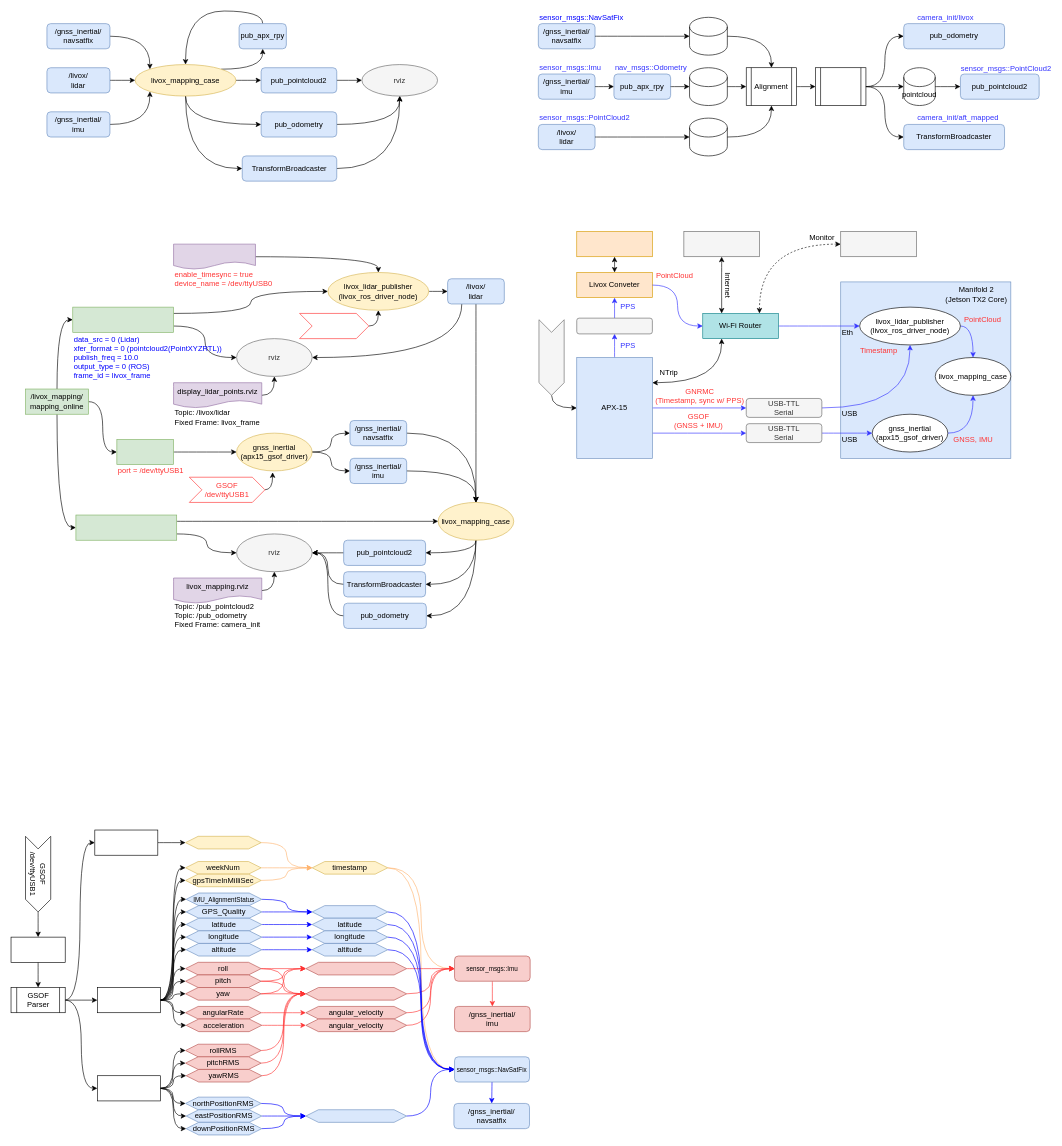
This 1062x1146 diagram has some shape labels left out. The shapes that lost their labels are listed below. From the top down, each one's centre as x and y in pixels, then its label:
At point (708, 36): "rtk_datas".
At point (708, 86): "imu_datas".
At point (840, 86): "Process".
At point (708, 136): "lidar_datas".
At point (214, 256): "livox_lidar_config.json".
At point (614, 244): "Livox Mid-40".
At point (721, 244): "GMS Modem".
At point (878, 244): "PC".
At point (123, 319): "/livox_ros_driver/ livox_lidar_rviz".
At point (334, 326): "GNRMC /dev/ttyUSB0".
At point (614, 326): "TTL-RS485".
At point (551, 357): "GNSS Ant.".
At point (145, 452): "apx15 / apx15".
At point (126, 527): "livox_mapping / livox_mapping".
At point (126, 842): "UTC (Id = 16)".
At point (223, 842): "leapSecond".
At point (350, 911): "status".
At point (37, 949): "GSOF Packet (Id = 0x40)".
At point (356, 968): "orientation".
At point (128, 1000): "INS_Navigation (Id = 49)".
At point (356, 993): "orientation_covariance".
At point (128, 1088): "INS_RMS (Id = 50)".
At point (356, 1115): "position_covariance".
